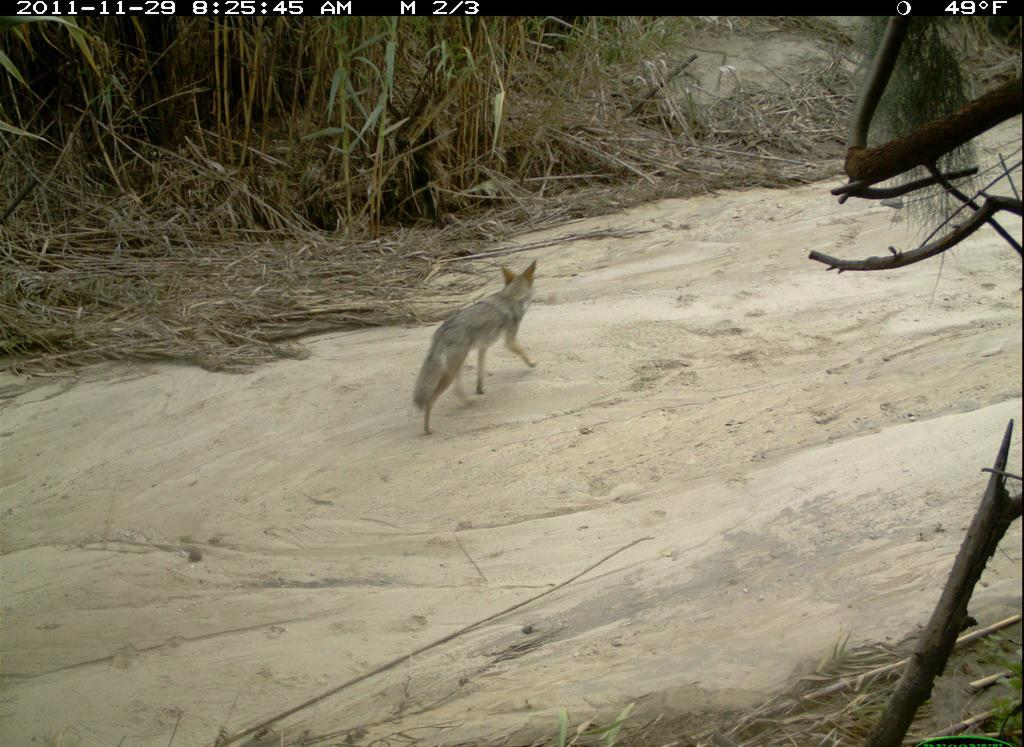coyote: (411, 258, 548, 443)
